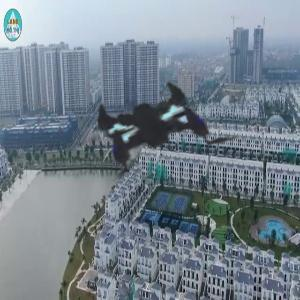drone: (24, 3, 288, 267)
